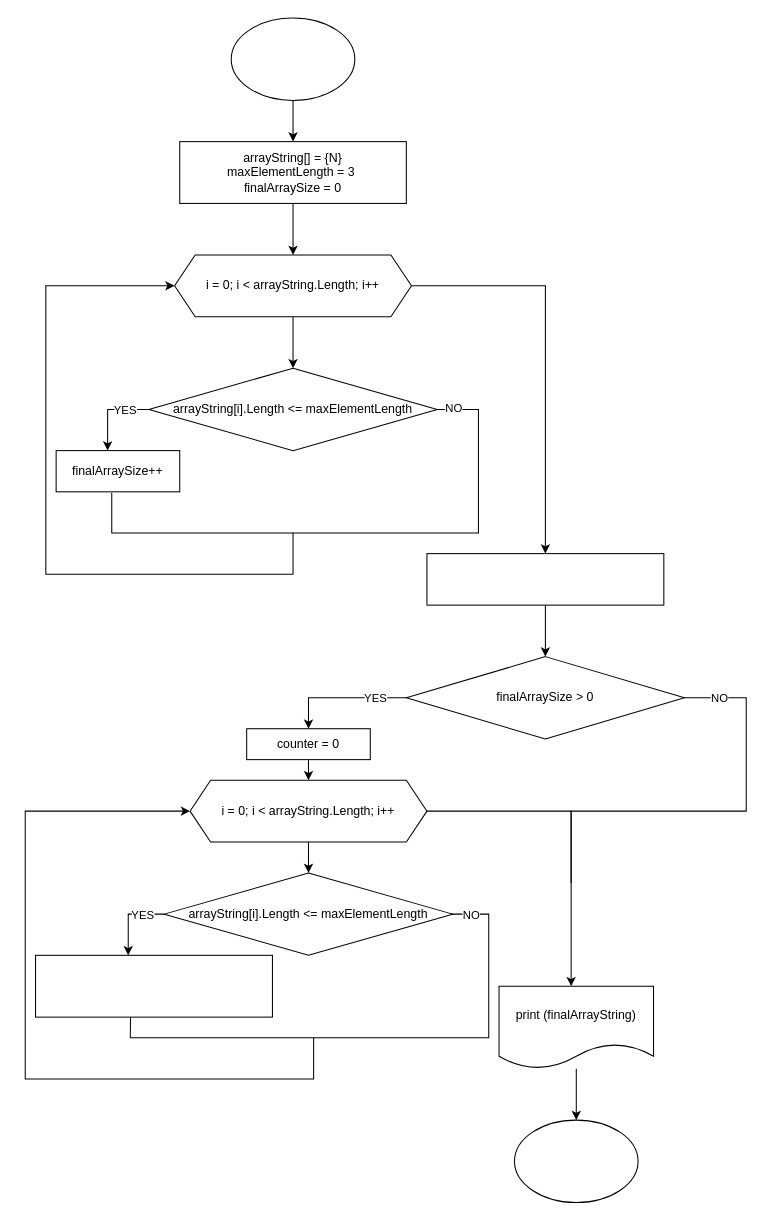
Some shapes in this 765 by 1221 pixel diagram are drawn without their labels. The centre of each missing label's shape, as x and y in pixels:
"finalArrayString[] = {finalArraySize}" goes at (545,579).
"finalArrayString[counter] = arrayString[i] counter++" goes at (153,985).
"FINISH" goes at (575,1161).
"START" goes at (292,58).
